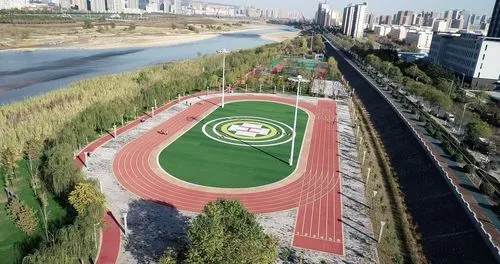Apron: (221, 119, 278, 140)
